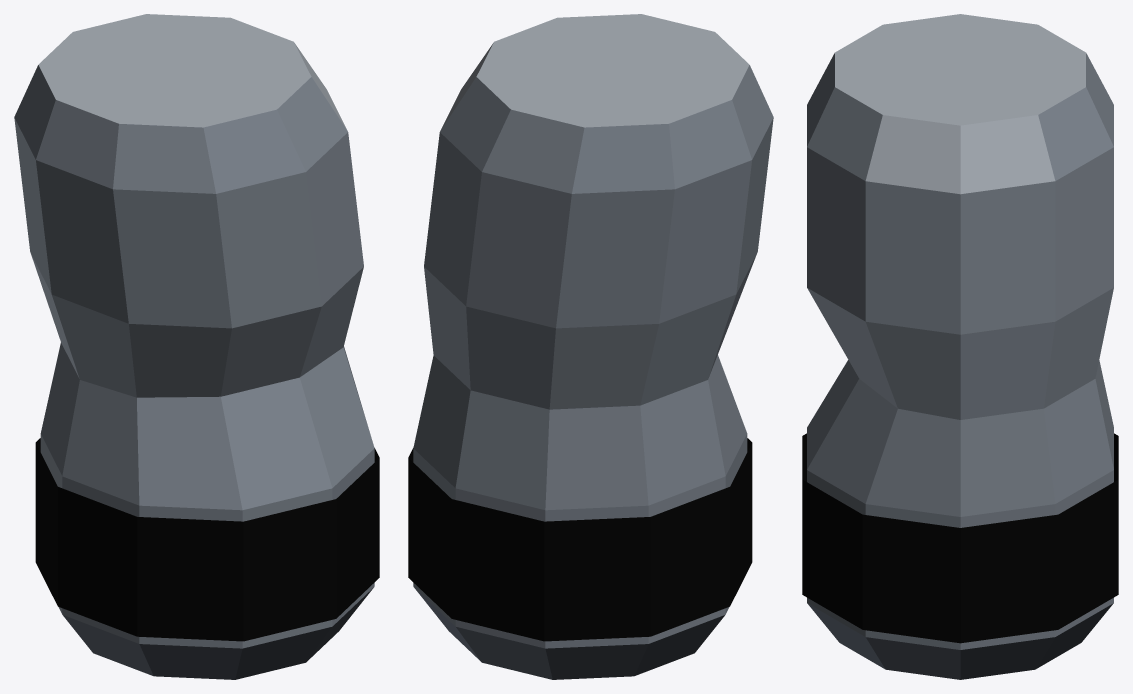
The model's file is Item_can_aluminum.fbx.
3 views of the same model, side by side, from view 1: azimuth 30°, elevation 25°; view 2: azimuth 150°, elevation 25°; view 3: azimuth 270°, elevation 25° (orthographic). The views are drawn at different scales.
Parts seen in each view (by area): view 1: Body.001, Band.002; view 2: Body.001, Band.002; view 3: Body.001, Band.002.
Part boxes in pixels (x1,y1,x2,y2): Body.001: (14, 14, 374, 679); Band.002: (35, 438, 379, 641); Body.001: (413, 14, 773, 679); Band.002: (408, 438, 752, 641); Body.001: (807, 14, 1113, 679); Band.002: (802, 433, 1118, 643).
Size of the model in its own units: 0.0986 by 0.1647 by 0.0873.
